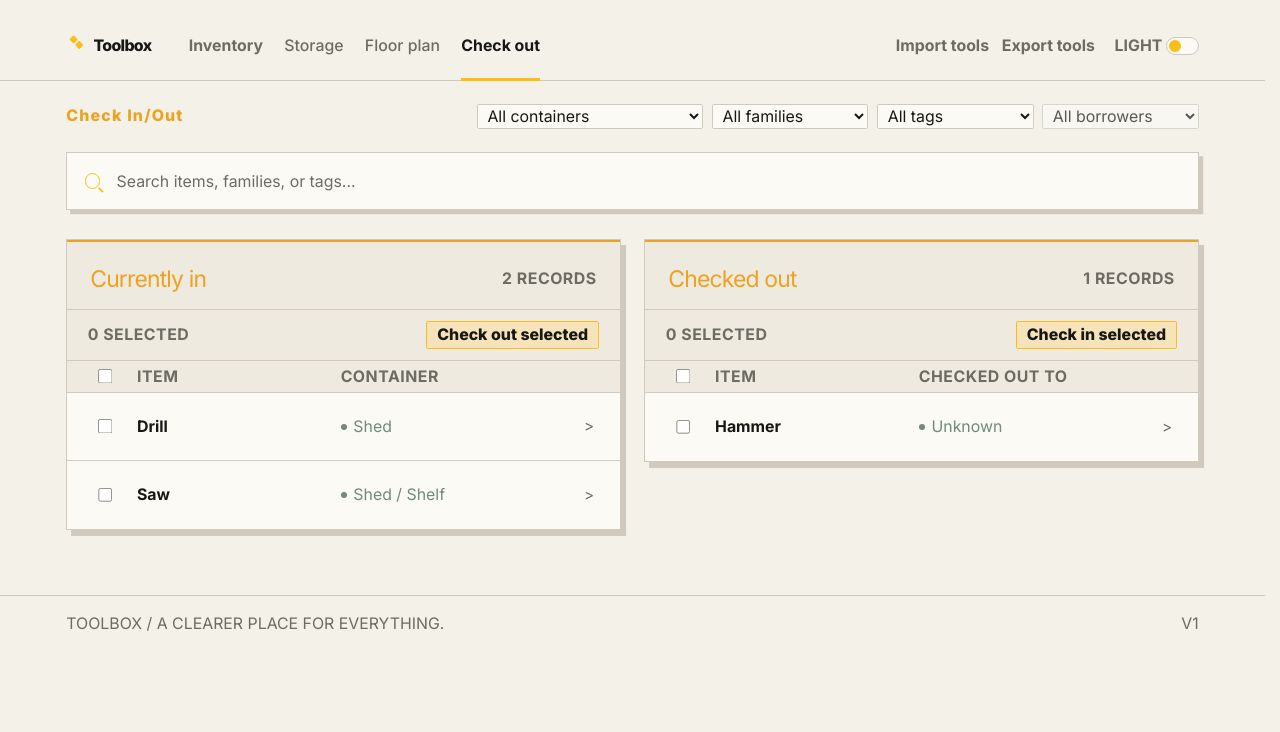
Scenario: checkout page › clears selections when searching so hidden items are not transferred
Click the checkbox named "Select all available items": (106, 376) x1=98 y1=369 x2=113 y2=384
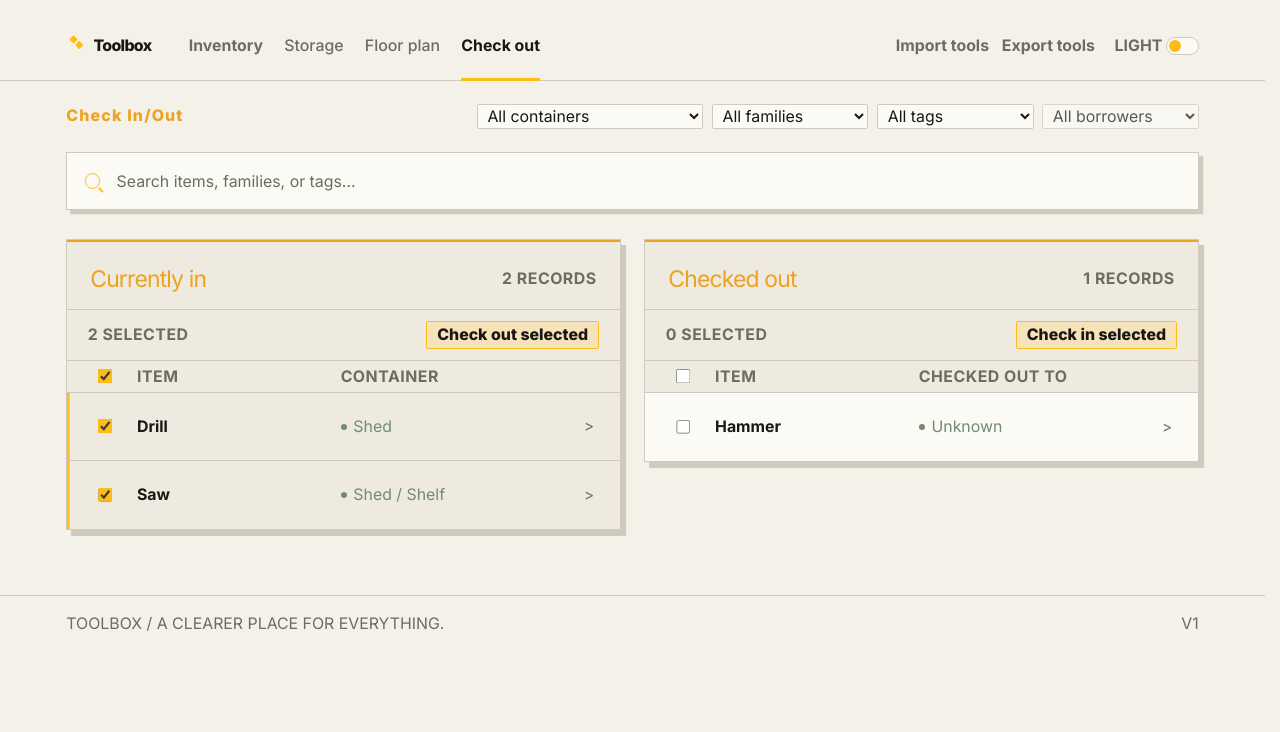
In the search field: (647, 181) x1=115 y1=153 x2=1180 y2=209, type "Saw"
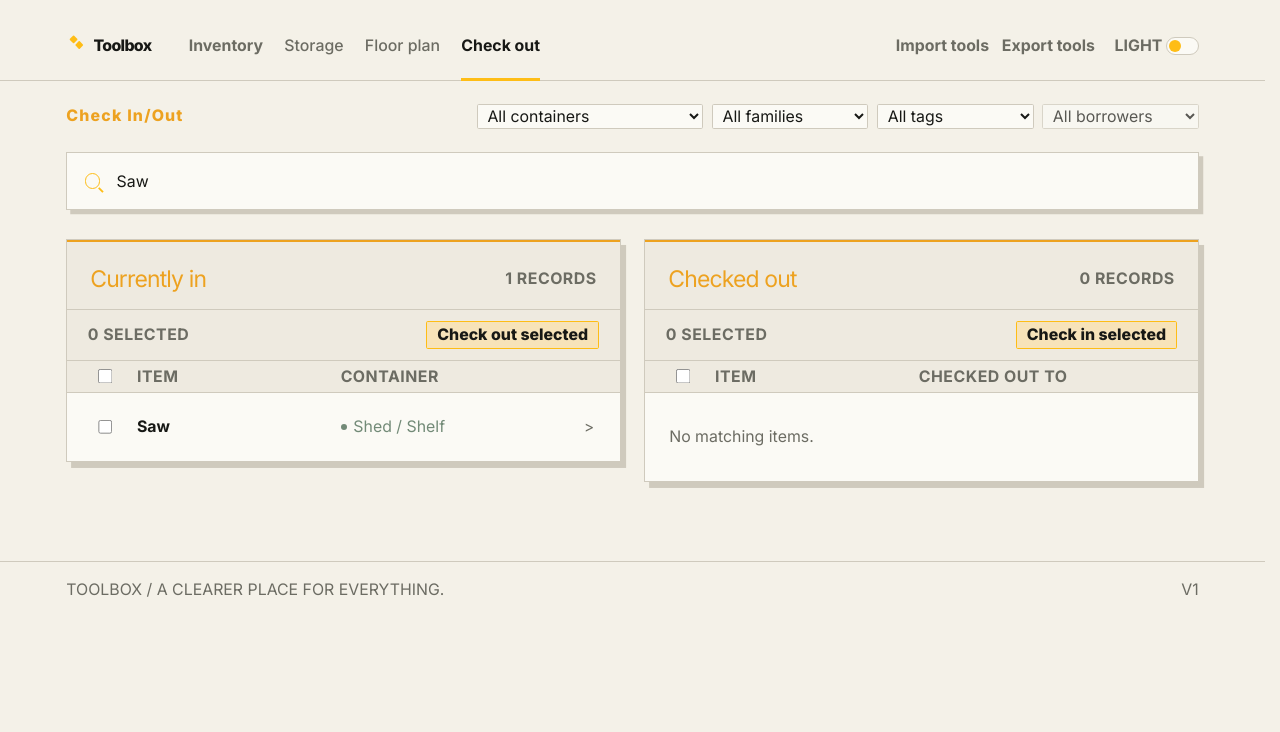
Check: the button "Check out selected" is disabled, box x1=426 y1=321 x2=599 y2=349
Check: the button "Drill" is gone
Check: the checkbox named "Select Saw" is not checked, box x1=98 y1=420 x2=113 y2=434
